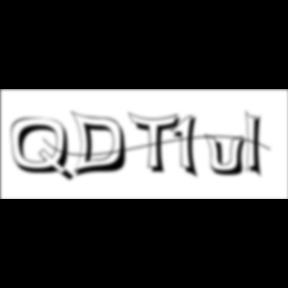1: (170, 114, 204, 182)
D: (70, 110, 134, 180)
Q: (11, 117, 77, 184)
T: (128, 112, 186, 176)
l: (246, 108, 268, 182)
u: (205, 132, 253, 178)
